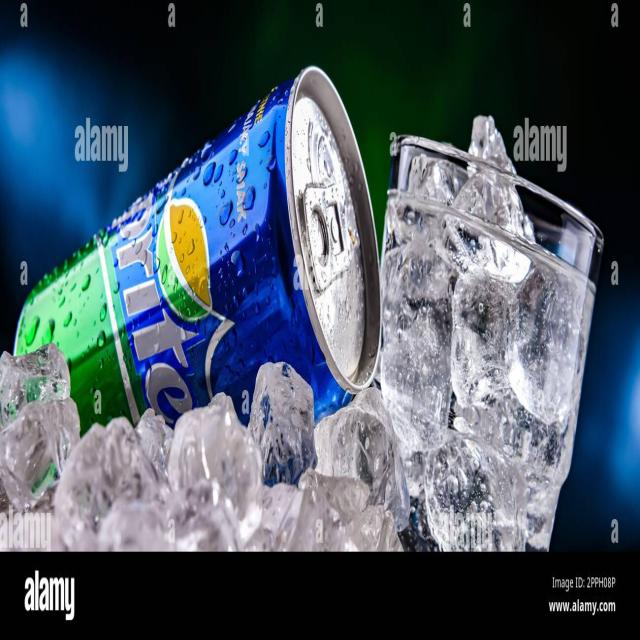sprite: (10, 96, 368, 483)
